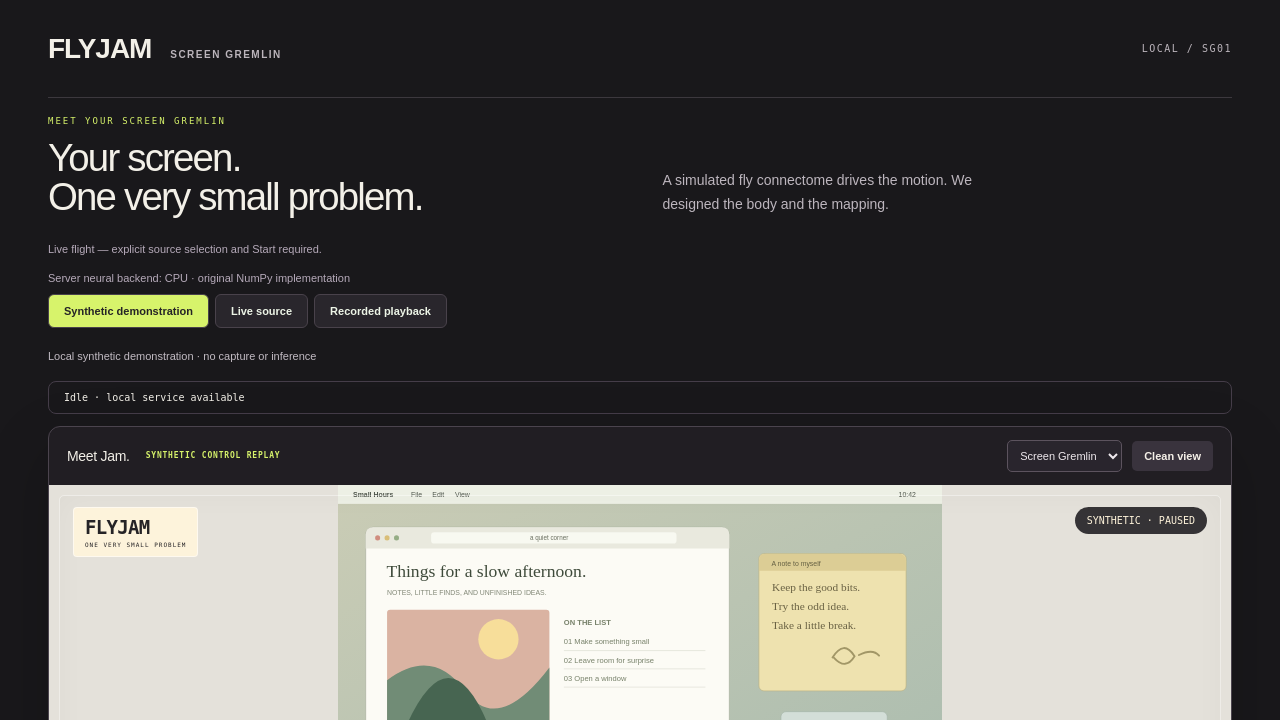
Test case: OBS05 operator session page › opens recording listing without capture or inference
The width and height of the screenshot is (1280, 720).
Check: the text "Idle · local service available" is shown, box [64,392,245,402]
What coordinates should you click on to do the following:
click the button "Recorded playback"
I would click on:
 (381, 310)
Its box is [314,294,447,328].
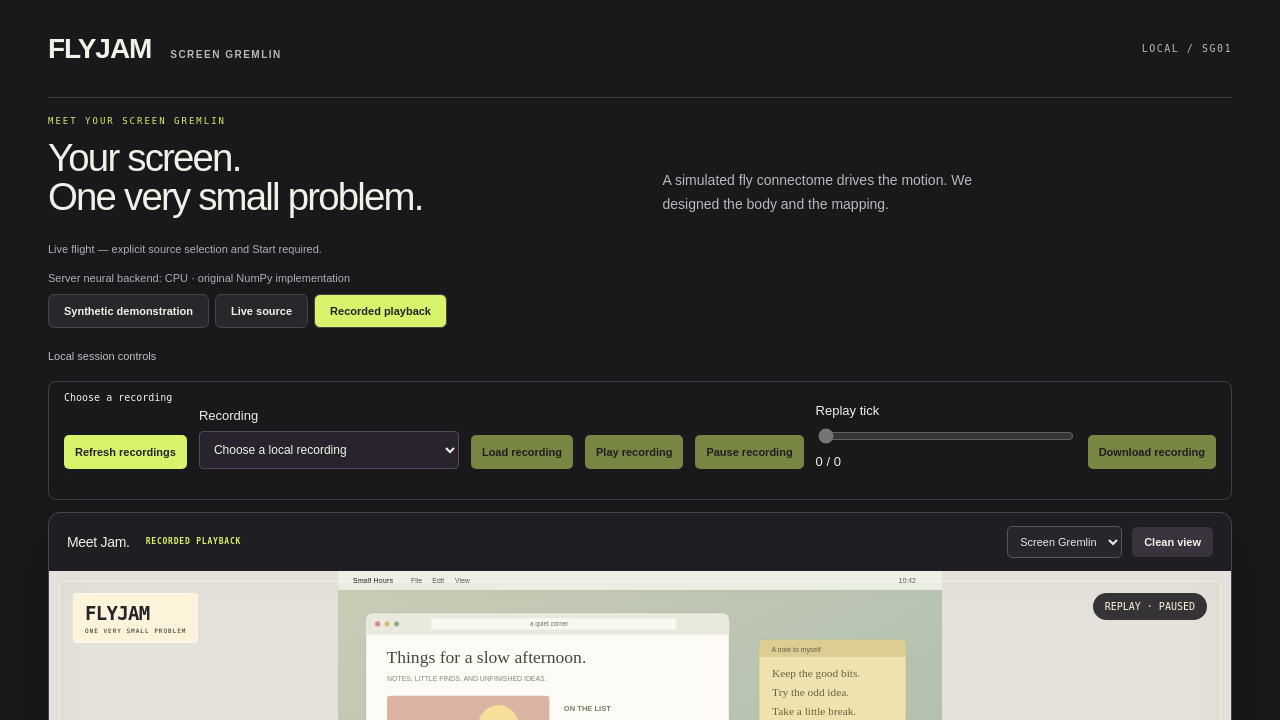
Check: the text "RECORDED PLAYBACK" is shown, box [146,537,241,546]
